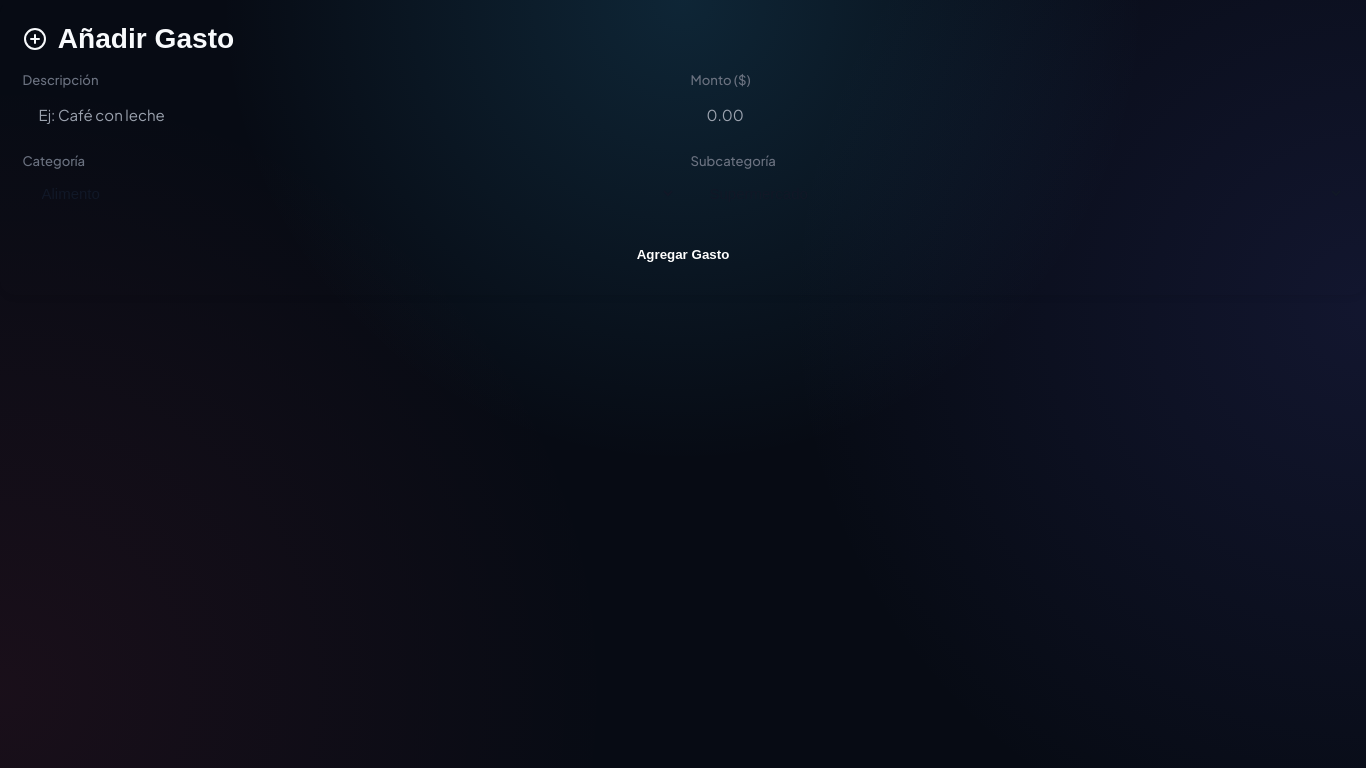
Componente ExpenseForm › debería mostrar un error de validación si se envía el formulario vacío
Click the button "Agregar Gasto" at (683, 254), box 22,235 -> 1344,273
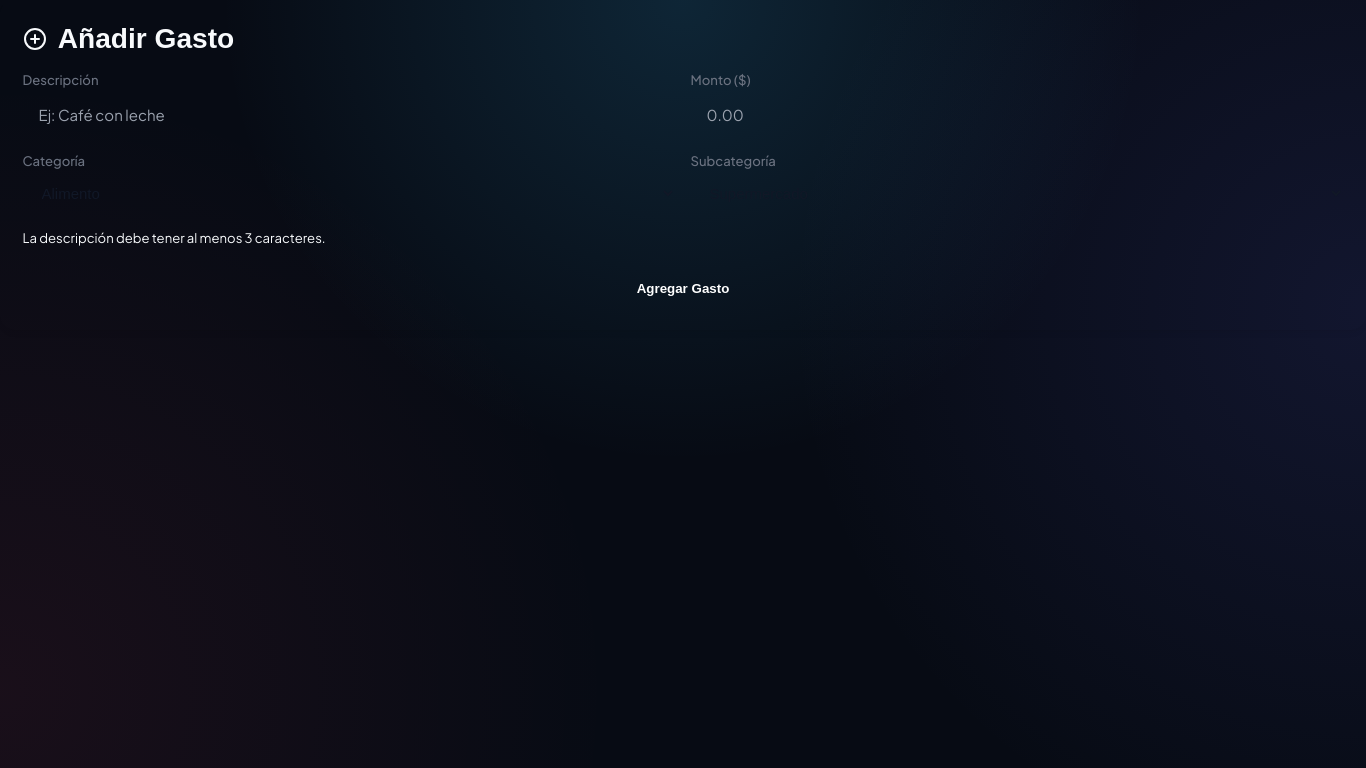
expect the text "La descripción debe tener al menos 3 caracteres." is shown: met, box 22,229 -> 326,246
